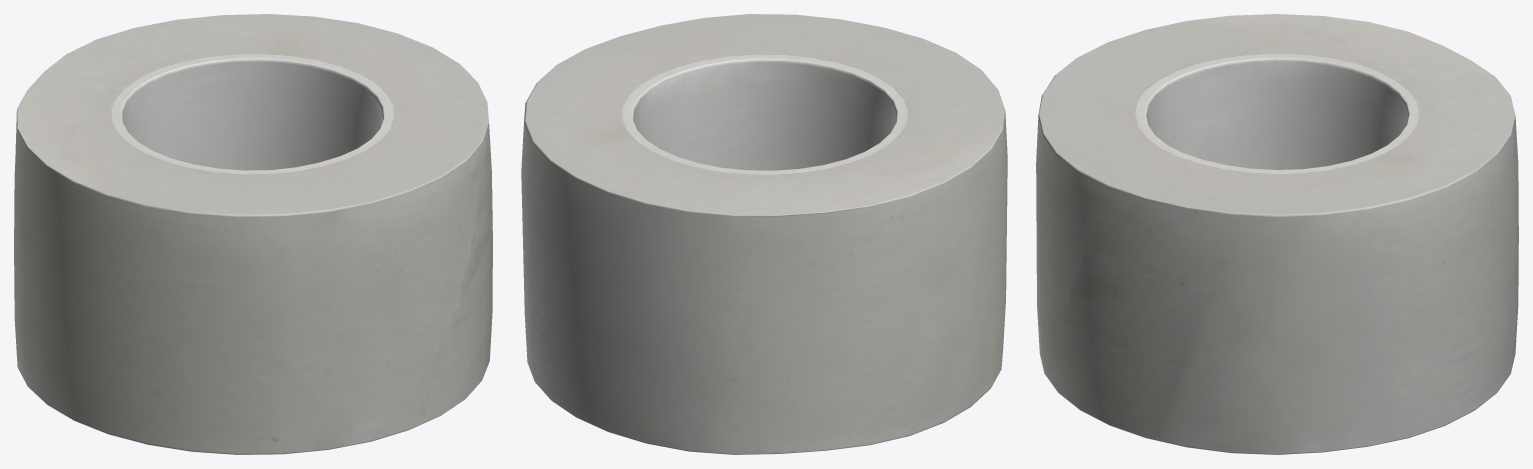
The model's file is medical_tape.gltf.
The picture shows the model from 3 angles, left to right: view 1: azimuth 30°, elevation 25°; view 2: azimuth 150°, elevation 25°; view 3: azimuth 270°, elevation 25°; orthographic projection.
Parts seen in each view (by area): view 1: medical_tape; view 2: medical_tape; view 3: medical_tape.
Part boxes in pixels (x1,y1,x2,y2): medical_tape: [14, 14, 492, 454]; medical_tape: [521, 14, 1007, 454]; medical_tape: [1036, 14, 1518, 454].
Bounding box in the file's own units: 0.0453 × 0.025 × 0.0452.
1 material, 1 textured.
